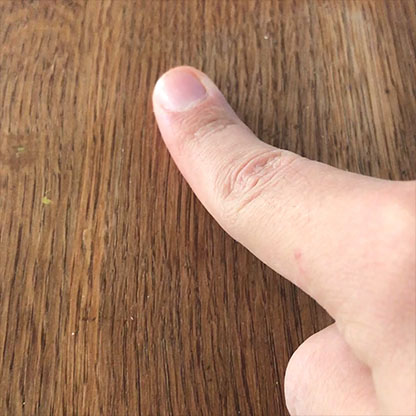fingertip: (139, 49, 240, 131)
